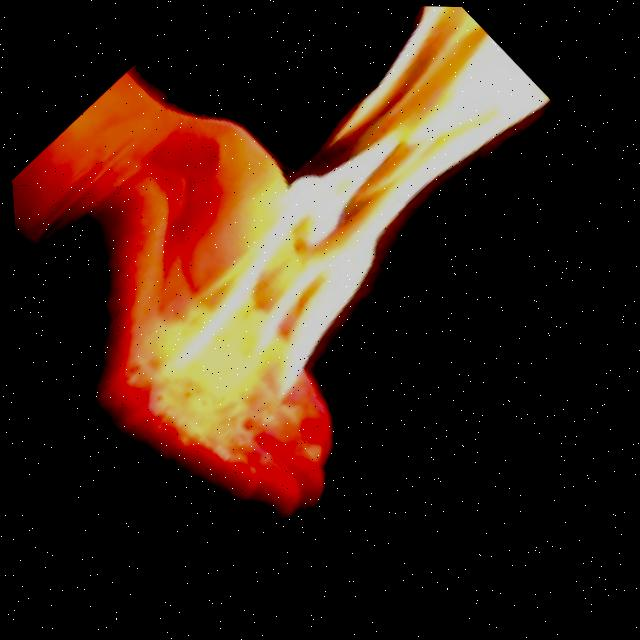Fire: (67, 1, 593, 448)
